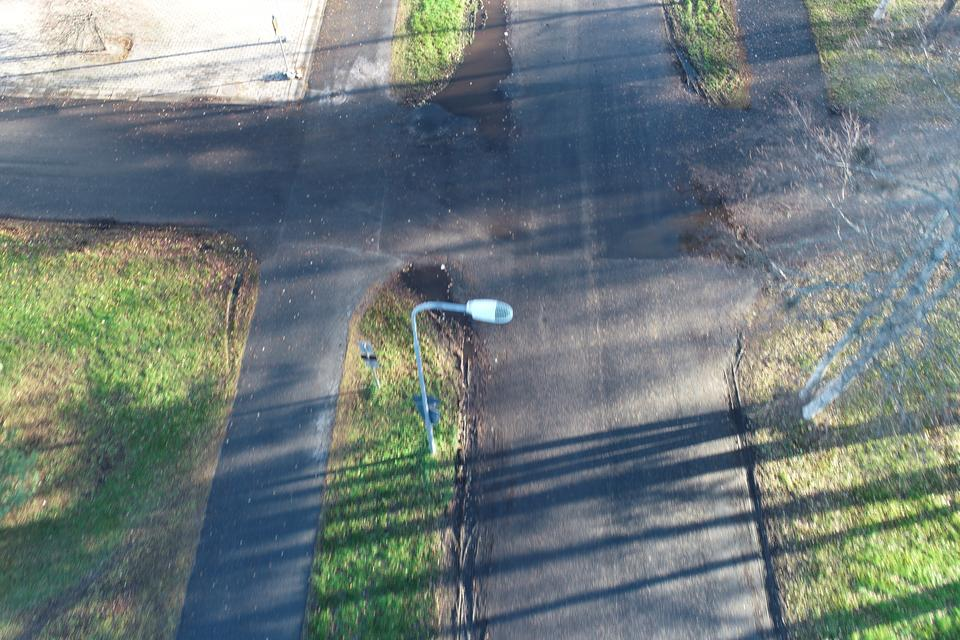intersection: (128, 44, 948, 363)
